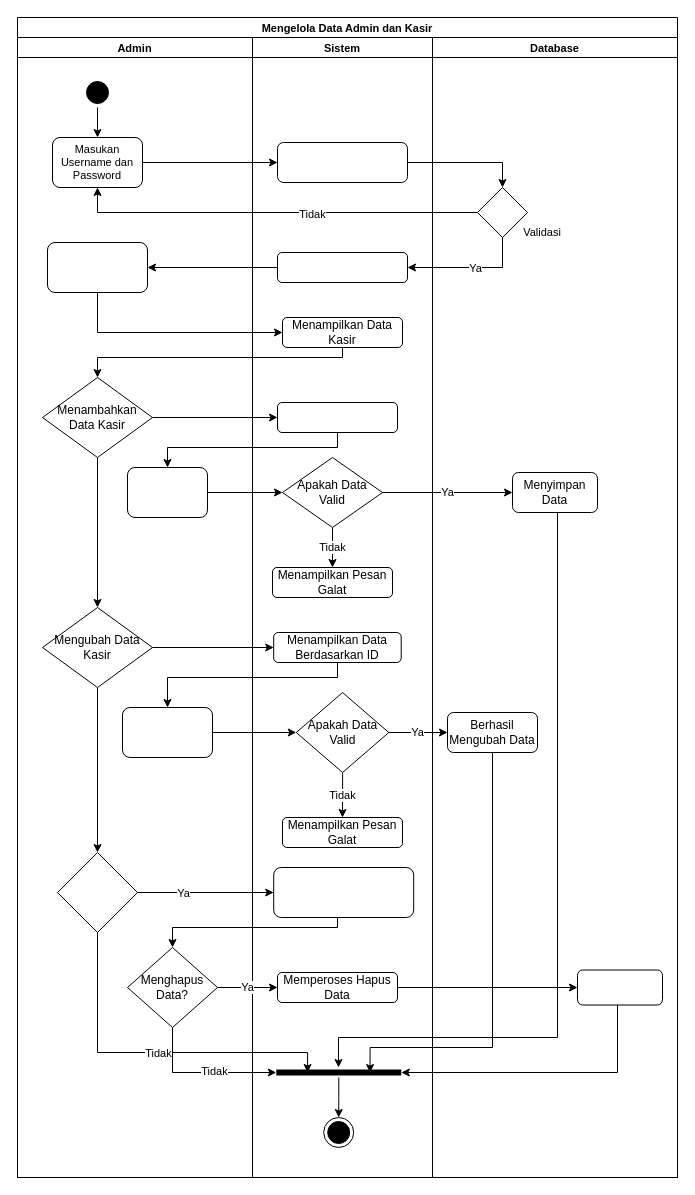
Some shapes in this 695 by 1195 pixel diagram are drawn without their labels. The shapes that lost their labels are listed below. From the top down, each one's centre as x and y in pixels, then its label:
point 342,162: Memperoses Username dan Password
point 97,267: Masuk ke Halaman Data Kasir
point 342,267: Beranda
point 337,417: Menampilkan Form Data
point 167,492: Mengisi Data
point 167,732: Mengubah Data
point 97,892: Menghapus Data Kasir
point 343,892: Menampilkan Dialog Pesan Hapus Data Berdasarkan ID
point 619,987: Berhasil Dihapus
